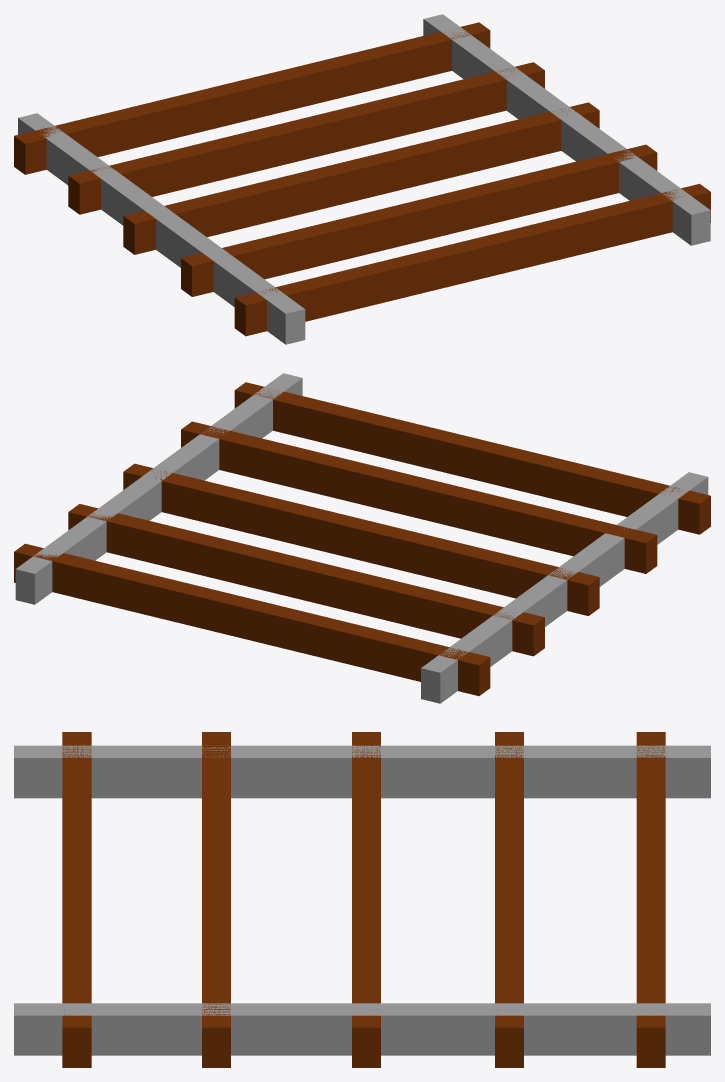
Rendered from rail.obj.
3 renders of one model, top to bottom at view 1: azimuth 30°, elevation 25°; view 2: azimuth 150°, elevation 25°; view 3: azimuth 270°, elevation 25°, orthographic. The views are drawn at different scales.
Parts seen in each view (by area): view 1: 立方体.004; view 2: 立方体.004; view 3: 立方体.004.
Part boxes in pixels (x1,y1,x2,y2): 立方体.004: [14, 14, 710, 344]; 立方体.004: [14, 373, 710, 703]; 立方体.004: [14, 732, 710, 1067].
Bounding box in the file's own units: 6.02 × 0.3824 × 6.
1 material, 1 textured.
